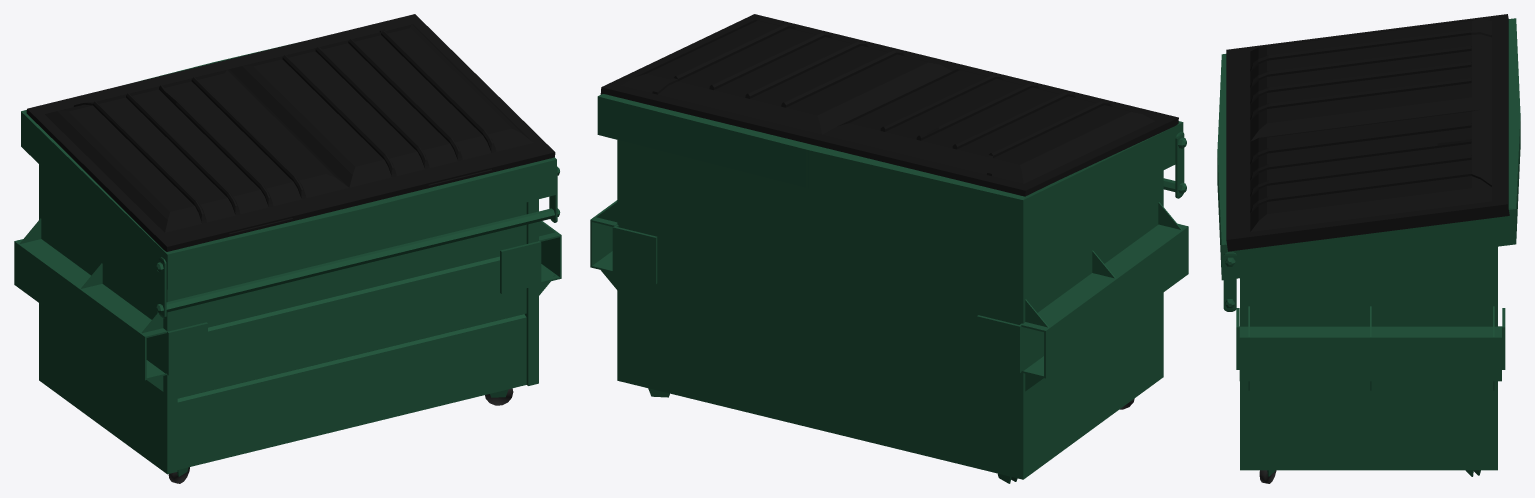
The model's file is dumpster.gltf.
3 views of the same model, side by side, from view 1: azimuth 30°, elevation 25°; view 2: azimuth 150°, elevation 25°; view 3: azimuth 270°, elevation 25° (orthographic). The views are drawn at different scales.
Parts seen in each view (by area): view 1: Dumpster Body, Dumpster Lid; view 2: Dumpster Body, Dumpster Lid; view 3: Dumpster Body, Dumpster Lid.
Part boxes in pixels (left/top/right/bottom): Dumpster Body: left=14, top=43, right=561, bottom=483; Dumpster Lid: left=26, top=14, right=555, bottom=251; Dumpster Body: left=590, top=94, right=1188, bottom=483; Dumpster Lid: left=600, top=14, right=1178, bottom=196; Dumpster Body: left=1217, top=18, right=1520, bottom=483; Dumpster Lid: left=1226, top=14, right=1509, bottom=251.
Size of the model in its own units: 3.5 by 2.43 by 2.19.
